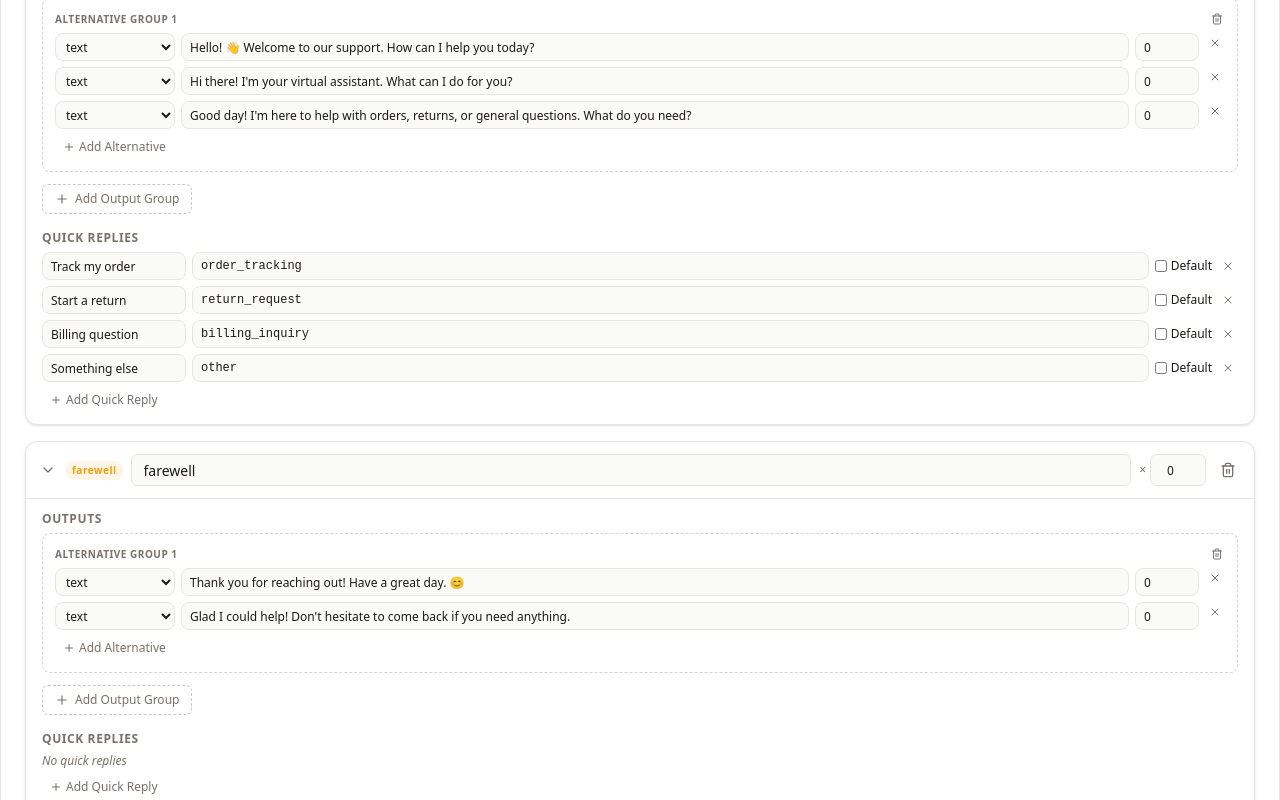
it: Output Editor › adding a quick reply adds a new row
(page scrolled)
expect the 1st element with test id "quickreply-row" is shown: met, box top-left (42, 252), bottom-right (1238, 280)
Click the 1st button "Add Quick Reply" at (104, 400), box top-left (42, 388), bottom-right (166, 412)
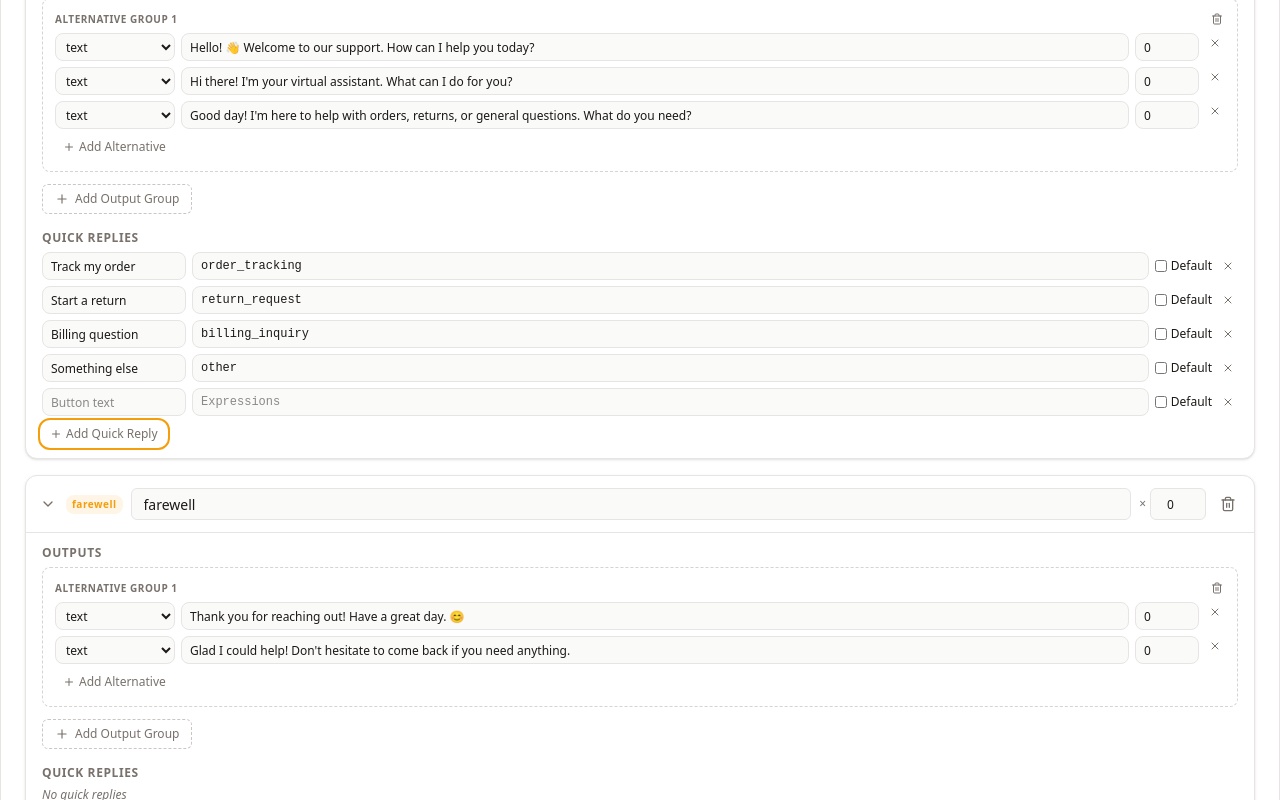
expect the number of elements with test id "quickreply-row" is 12: met
